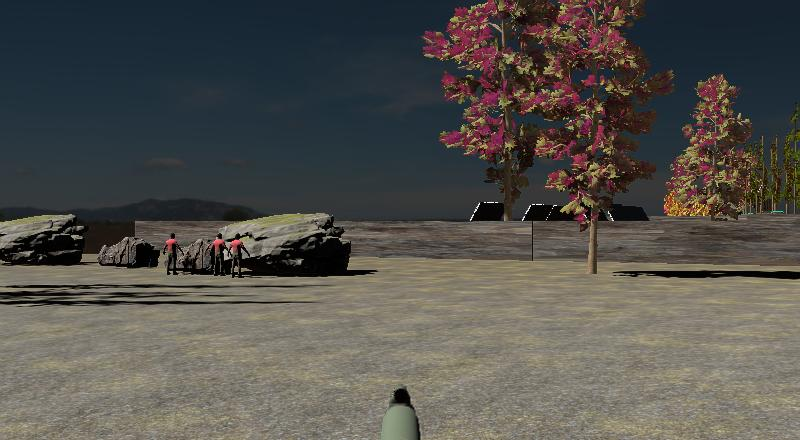Human: (206, 231, 230, 277), (161, 232, 183, 276), (228, 232, 249, 278)
